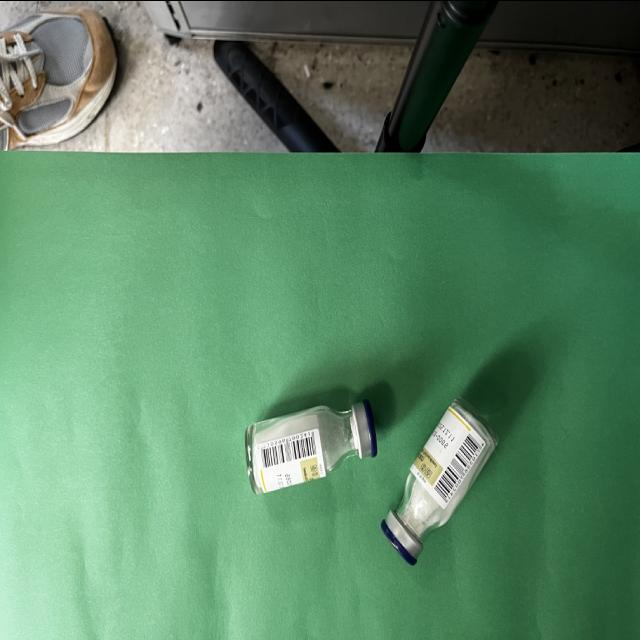Vials: (381, 397, 498, 563), (245, 399, 377, 493)
